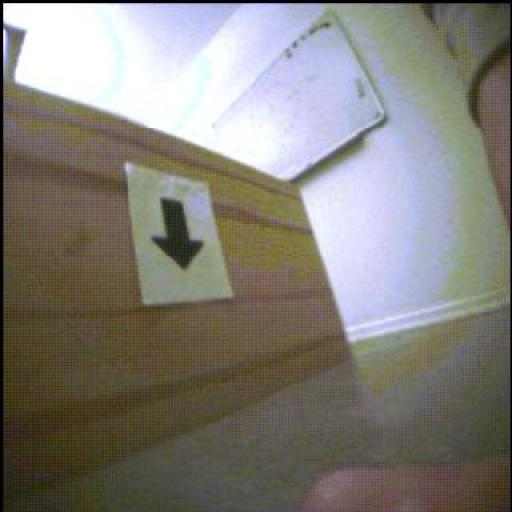arrow: (153, 199, 204, 270)
